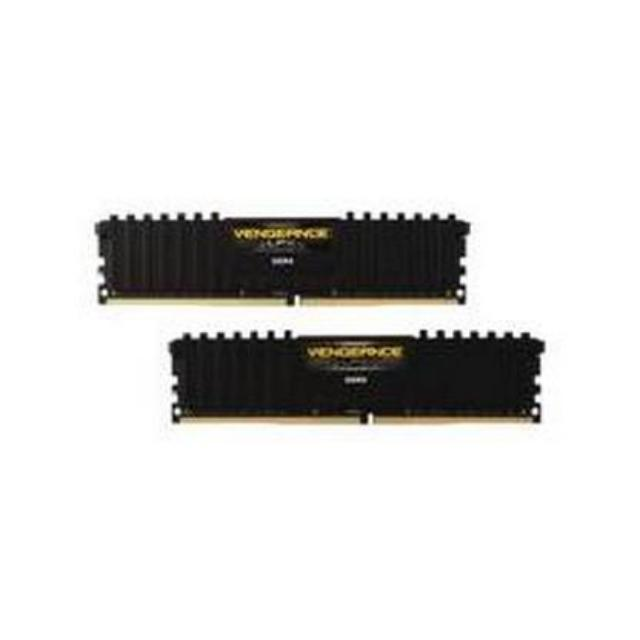RAM: (167, 324, 556, 438), (90, 207, 476, 316)
